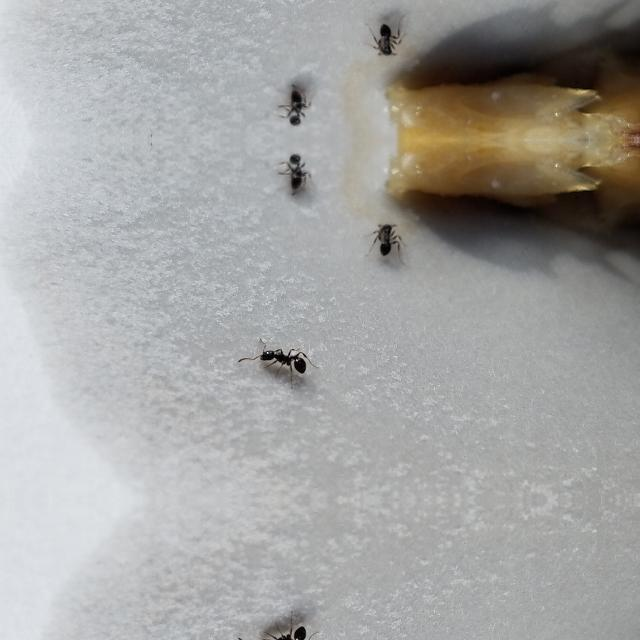Temnothorax: (246, 340, 320, 378), (358, 216, 410, 260), (358, 20, 410, 64), (274, 146, 318, 194), (274, 86, 318, 134), (244, 622, 320, 640)
